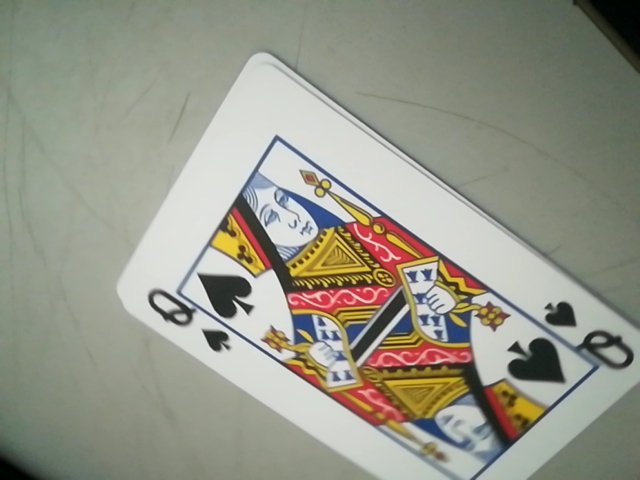ht q: (136, 289, 263, 353)
